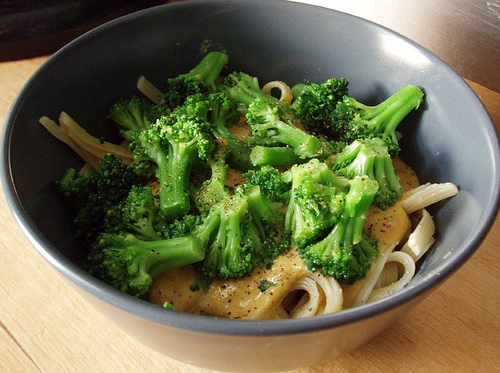broccoli: (285, 159, 389, 286), (127, 109, 215, 218), (298, 79, 425, 152), (85, 230, 204, 298)
